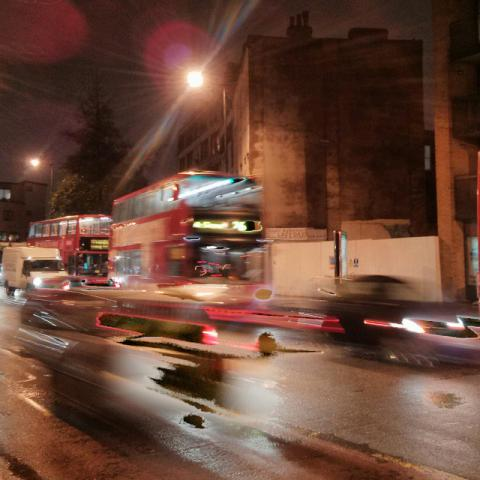bus: (101, 167, 267, 308), (26, 214, 110, 284)
car: (320, 270, 479, 366), (97, 303, 220, 352)
truck: (1, 246, 72, 296)
